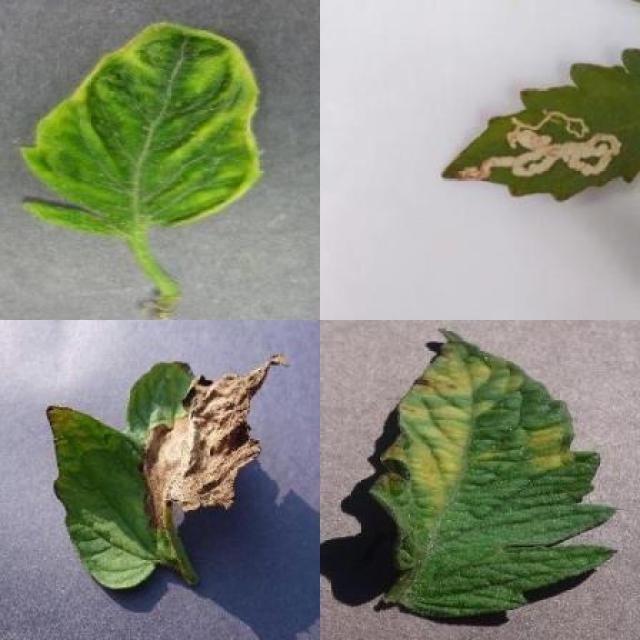Late Blight: (42, 356, 291, 591)
Leaf Miner: (441, 47, 640, 203)
Leaf Mold: (370, 326, 619, 620)
Yellow Leaf Curl Virus: (23, 19, 266, 234)
